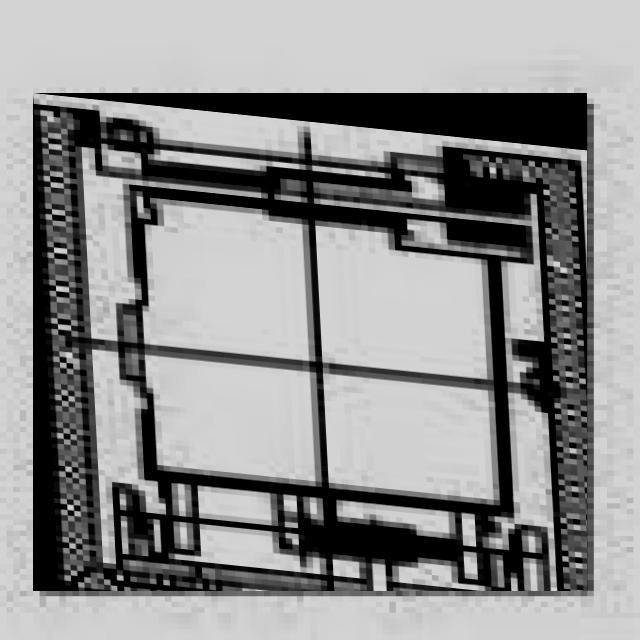lift: (33, 93, 587, 591)
